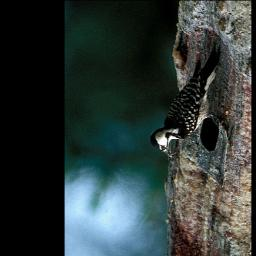Woodpecker: (149, 40, 220, 160)
